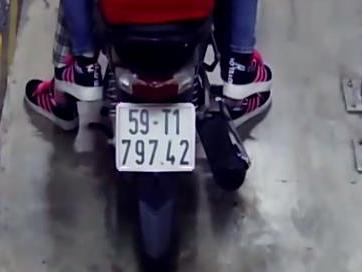num_plate: (114, 102, 197, 173)
